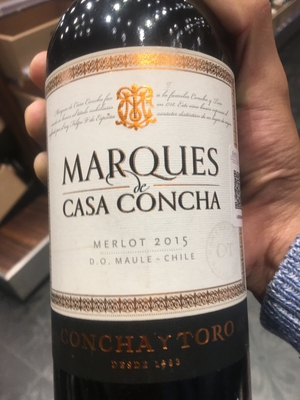marques de casa concha merlot: (34, 6, 278, 393)
